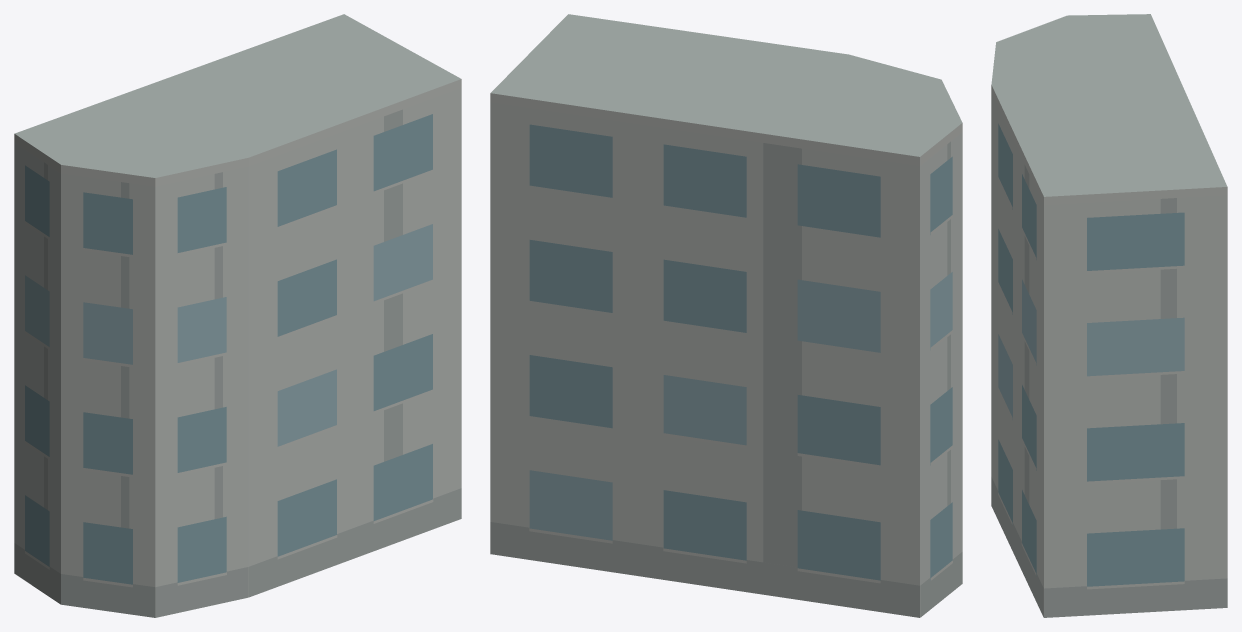
Rendered from residential-dd3c1a7c-0854-4da7-bd3f-2f5417653d28.glb.
3 views of the same model, side by side, from view 1: azimuth 30°, elevation 25°; view 2: azimuth 150°, elevation 25°; view 3: azimuth 270°, elevation 25° (orthographic). The views are drawn at different scales.
Parts seen in each view (by area): view 1: residential-dd3c1a7c-0854-4da7-bd3f-2f5417653d28.tmp; view 2: residential-dd3c1a7c-0854-4da7-bd3f-2f5417653d28.tmp; view 3: residential-dd3c1a7c-0854-4da7-bd3f-2f5417653d28.tmp.
Part boxes in pixels (x1,y1,x2,y2): residential-dd3c1a7c-0854-4da7-bd3f-2f5417653d28.tmp: (14, 14, 461, 617); residential-dd3c1a7c-0854-4da7-bd3f-2f5417653d28.tmp: (490, 14, 962, 617); residential-dd3c1a7c-0854-4da7-bd3f-2f5417653d28.tmp: (991, 14, 1227, 617).
Size of the model in its own units: 11.38 by 12.2 by 6.21.
